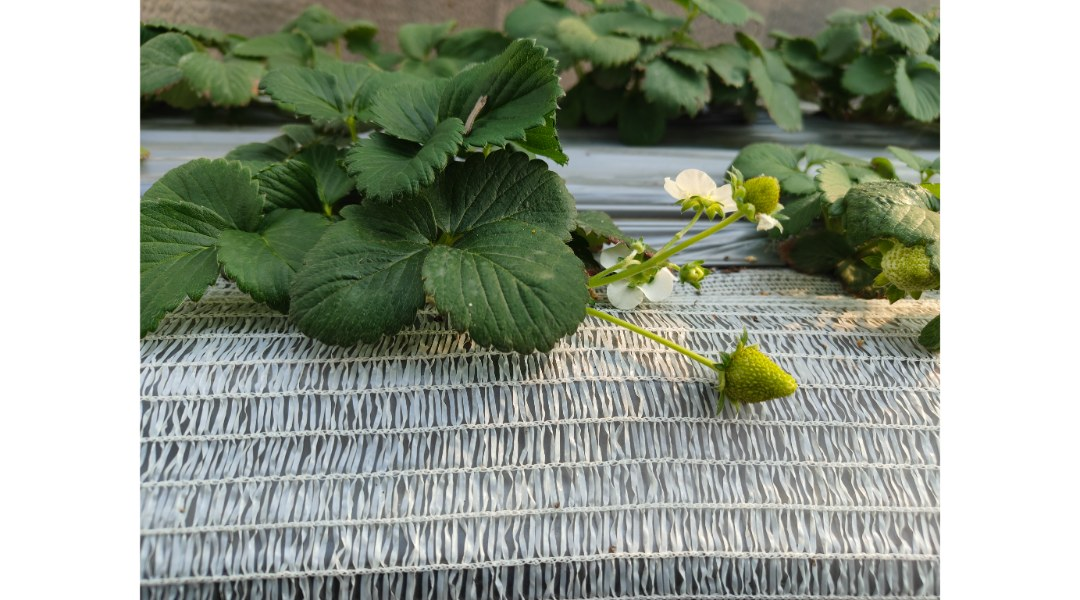berry: (703, 345, 812, 409), (733, 165, 792, 237), (669, 253, 719, 311)
flower: (604, 235, 698, 313), (646, 158, 731, 224)
strain: (587, 295, 736, 378)
